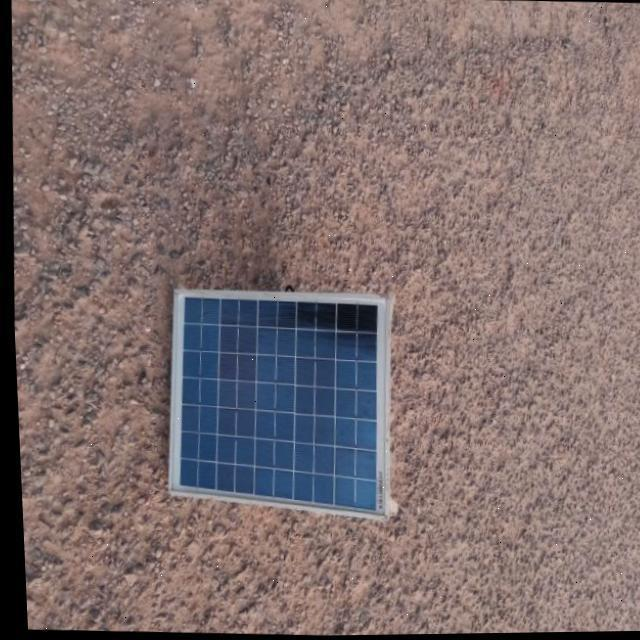Normal Solar Panel: (158, 289, 397, 525)
